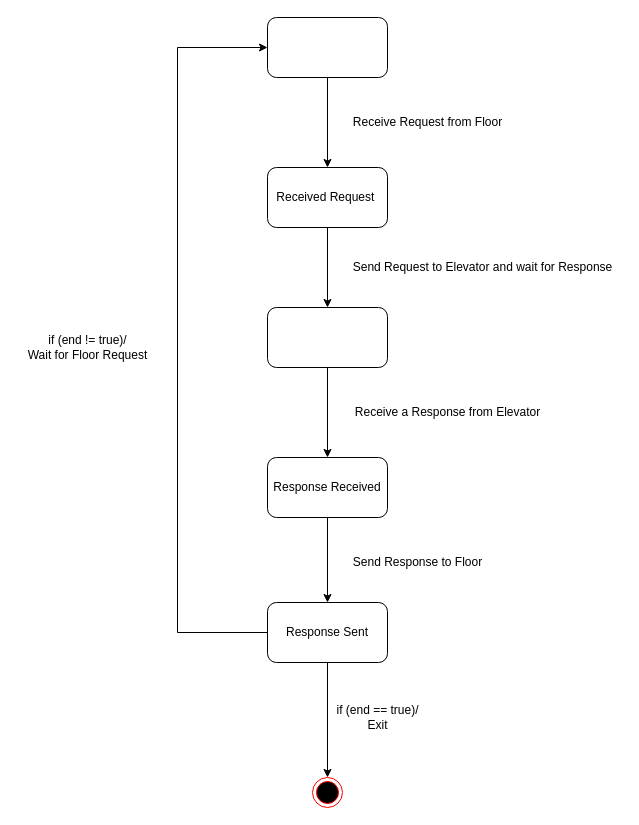
Image size: 639x825. Some labels were removed from this diagram. Each missing label, with the box of its shape:
Idle: (266, 16, 388, 78)
Request Sent: (266, 306, 388, 368)
